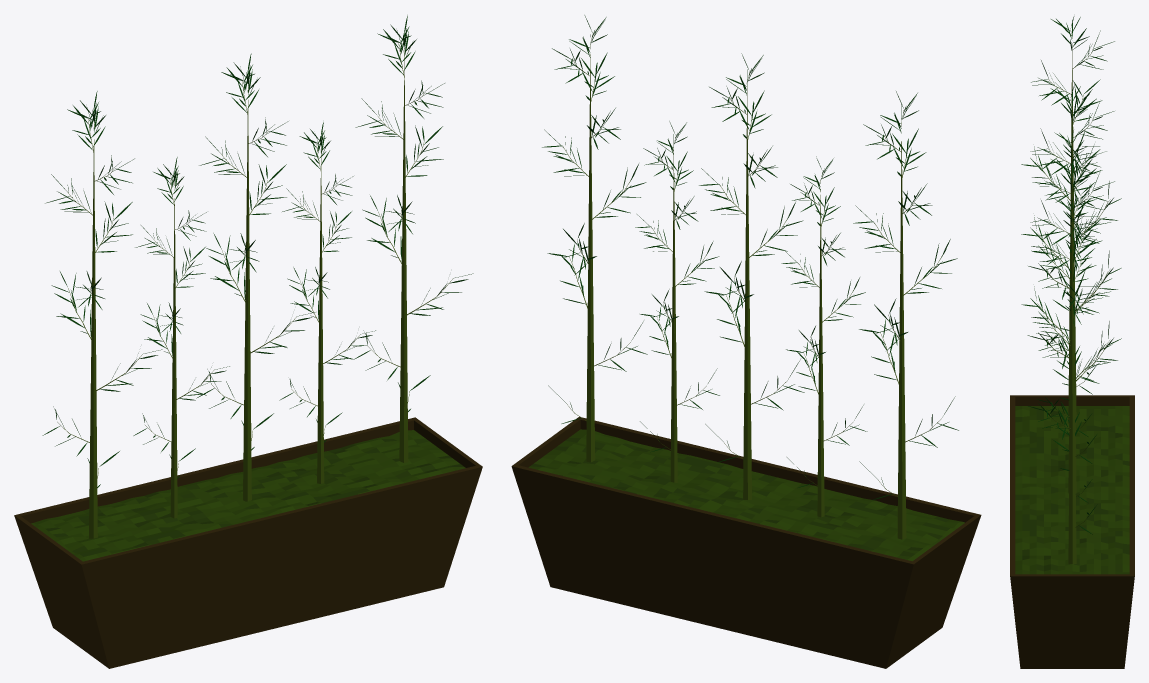
File: bambooPot.fbx
3 renders of one model, left to right at view 1: azimuth 30°, elevation 25°; view 2: azimuth 150°, elevation 25°; view 3: azimuth 270°, elevation 25°, orthographic. The views are drawn at different scales.
Parts seen in each view (by area): view 1: bamboosPot; view 2: bamboosPot; view 3: bamboosPot.
Boxes of the visible parts, x1=… form: bamboosPot: x1=14, y1=15, x2=482, y2=668; bamboosPot: x1=511, y1=15, x2=981, y2=668; bamboosPot: x1=1010, y1=16, x2=1134, y2=668.
Size of the model in its own units: 140 by 176 by 38.82.
